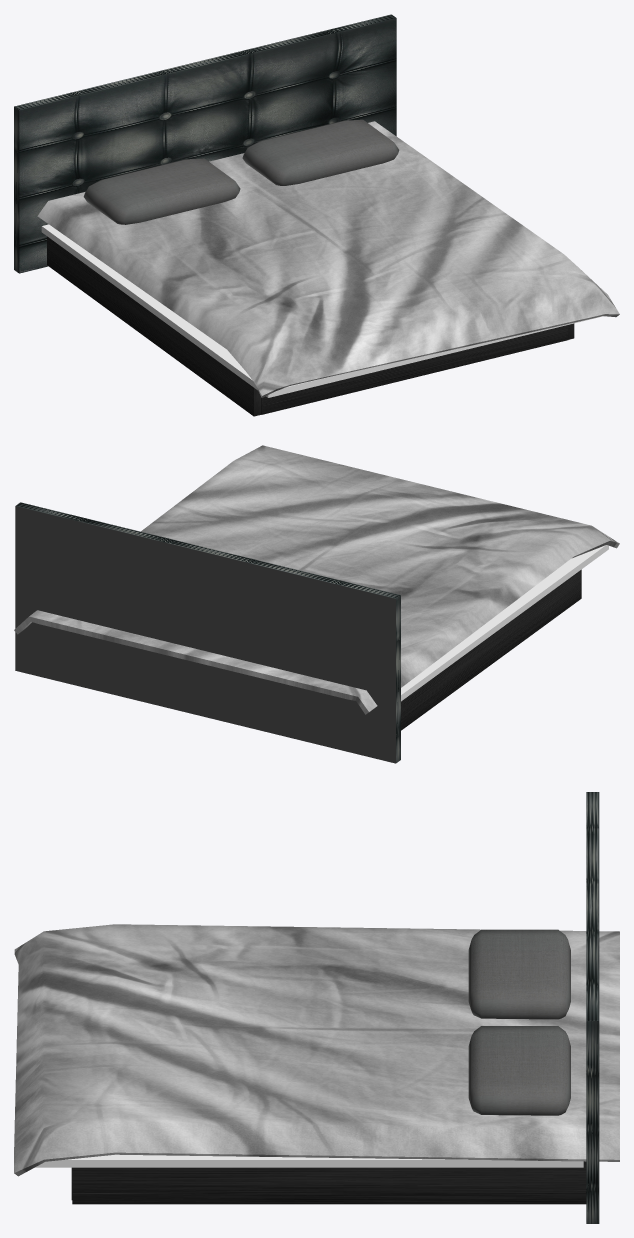
Rendered from Judges bed.FBX.
3 renders of one model, top to bottom at view 1: azimuth 30°, elevation 25°; view 2: azimuth 150°, elevation 25°; view 3: azimuth 270°, elevation 25°, orthographic. The views are drawn at different scales.
Visible parts, largest first — view 1: Plane001, Box001, Box008, Box009, Box003, Box002, Box005; view 2: Box001, Plane001, Box003, Box005; view 3: Plane001, Box004, Box008, Box009, Box001, Box005.
Part boxes in pixels (x1,y1,x2,y2): Plane001: (37,121,619,397); Box001: (14,14,396,273); Box008: (83,158,240,224); Box009: (242,119,399,185); Box003: (47,236,261,416); Box002: (261,325,568,414); Box005: (41,224,602,397); Box001: (15,502,400,763); Plane001: (14,445,619,714); Box003: (401,569,581,730); Box005: (401,545,608,701); Plane001: (14,924,619,1176); Box004: (72,1161,586,1204); Box008: (468,929,570,1019); Box009: (468,1026,570,1115); Box001: (586,792,599,1223); Box005: (35,1154,583,1167).
Size of the model in its own units: 142 by 58.58 by 159.
Materials: 7 (4 with a texture image).
